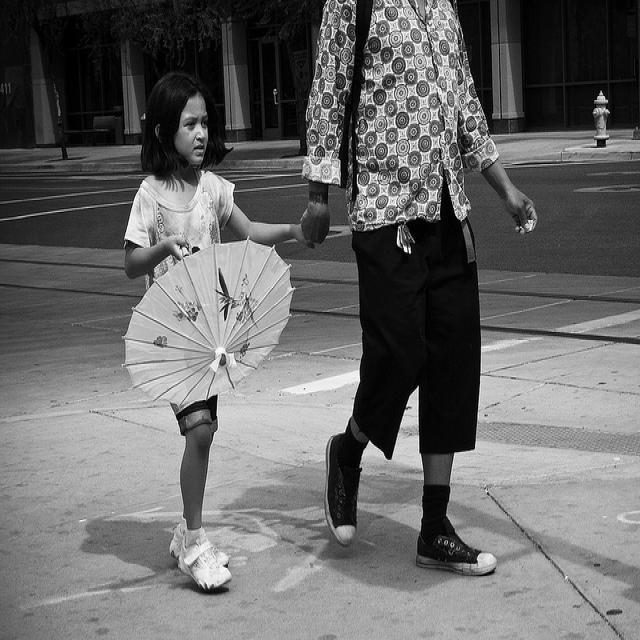fire_hydrant: (591, 89, 610, 147)
